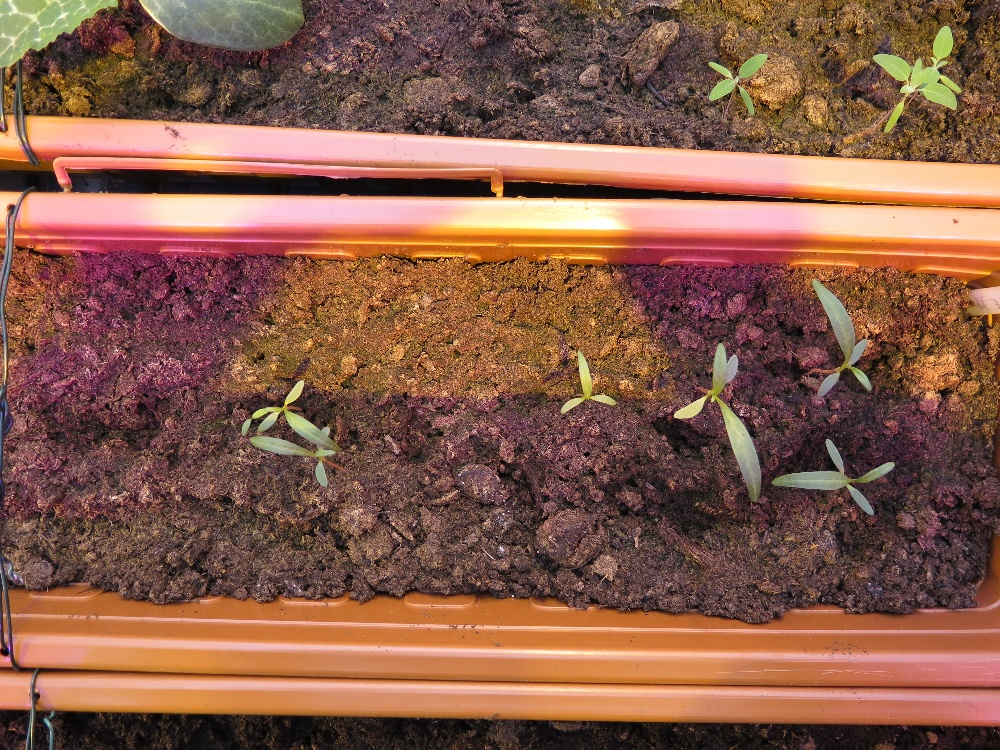weed: (669, 343, 762, 504), (770, 437, 898, 517), (219, 429, 366, 496), (810, 278, 872, 400), (240, 377, 319, 434), (707, 50, 768, 115), (559, 349, 618, 415)
